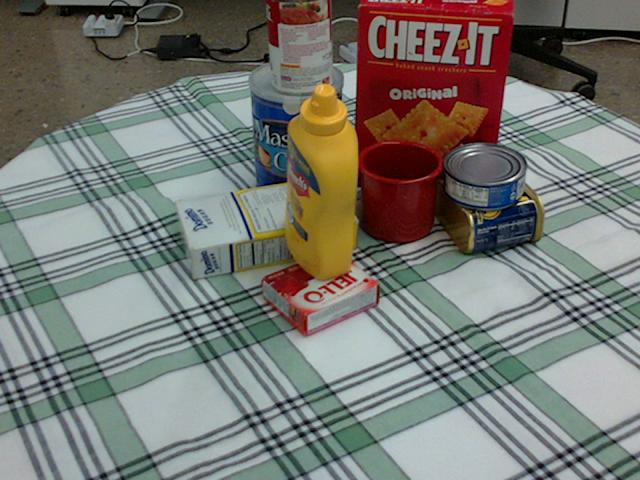cracker_box: (354, 0, 516, 191)
gelatin_box: (263, 249, 380, 335)
master_chef_can: (248, 58, 342, 211)
mug: (356, 138, 445, 241)
mustard_bottle: (284, 82, 357, 279)
potted_meat_can: (433, 158, 543, 249)
sugar_box: (172, 174, 356, 278)
tomato_soup_can: (267, 0, 333, 94)
tuna_fish_can: (443, 143, 526, 209)
